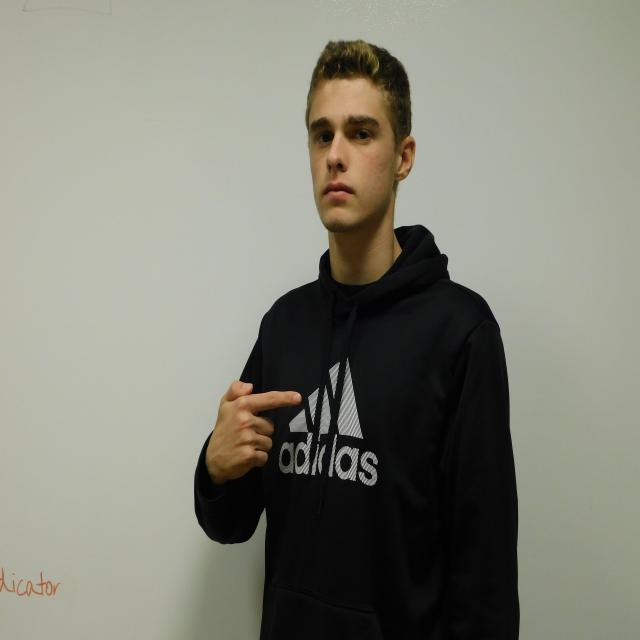I: (215, 379, 301, 478)
